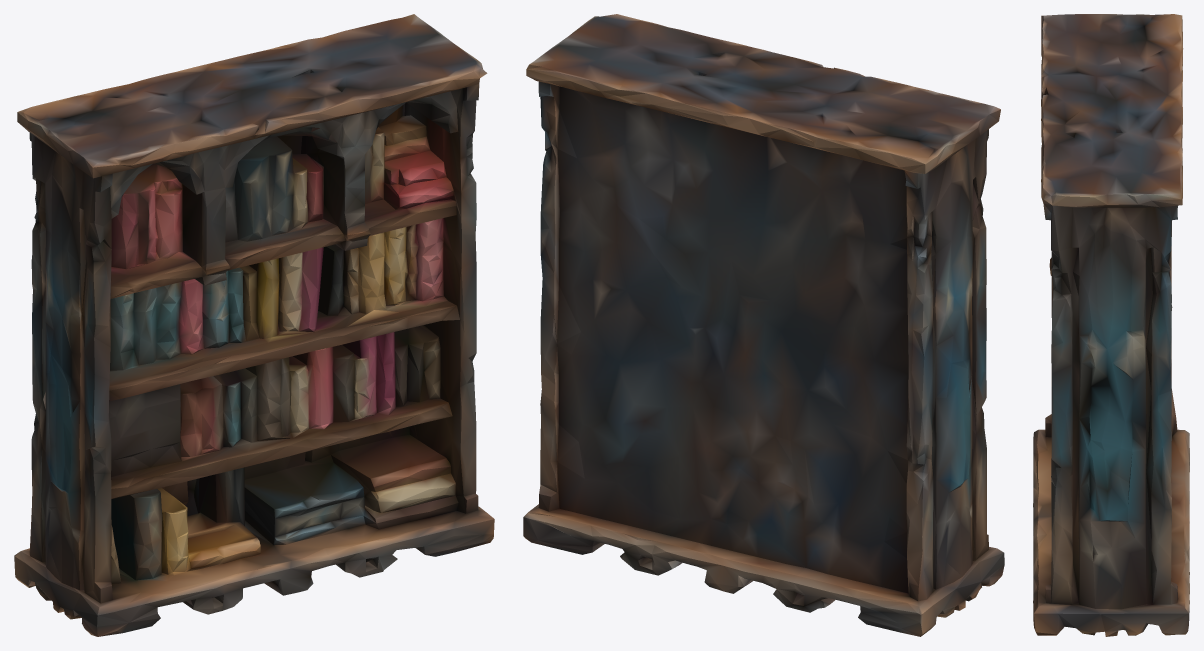
File: lib_bookshelf.vc.glb
The picture shows the model from 3 angles, left to right: view 1: azimuth 30°, elevation 25°; view 2: azimuth 150°, elevation 25°; view 3: azimuth 270°, elevation 25°; orthographic projection. The views are drawn at different scales.
Visible parts, largest first — view 1: lib_bookshelf; view 2: lib_bookshelf; view 3: lib_bookshelf.
Boxes of the visible parts, box(x1,y1,x2,y2) form: lib_bookshelf: box(14, 14, 494, 636); lib_bookshelf: box(523, 14, 1004, 636); lib_bookshelf: box(1033, 14, 1189, 636).
Size of the model in its own units: 1.68 by 1.9 by 0.6109.
